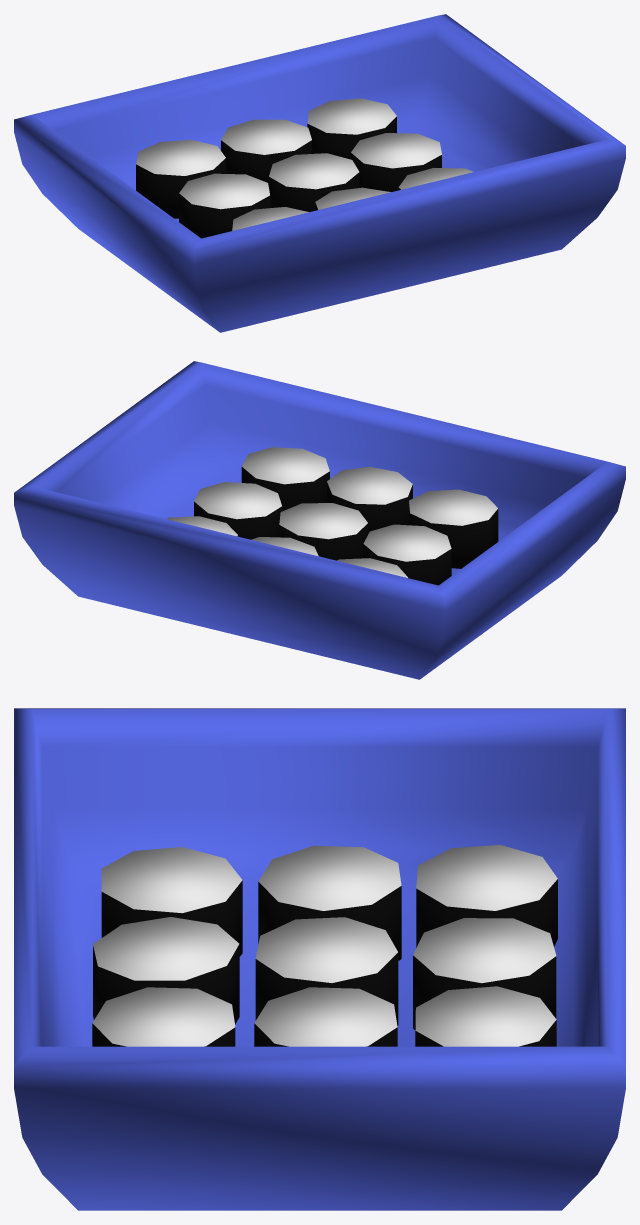
Rendered from sushi.fbx.
The picture shows the model from 3 angles, top to bottom: view 1: azimuth 30°, elevation 25°; view 2: azimuth 150°, elevation 25°; view 3: azimuth 270°, elevation 25°; orthographic projection. The views are drawn at different scales.
Parts seen in each view (by area): view 1: sushi; view 2: sushi; view 3: sushi.
Part boxes in pixels (left/top/right/bottom): sushi: left=14, top=14, right=625, bottom=332; sushi: left=14, top=361, right=625, bottom=679; sushi: left=14, top=708, right=625, bottom=1210.
Size of the model in its own units: 239 by 59.19 by 172.
